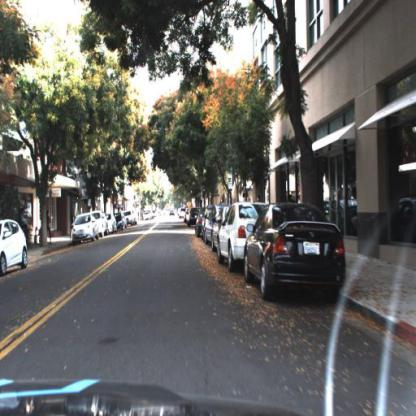car: (242, 200, 350, 306), (217, 200, 272, 273), (217, 198, 246, 276), (2, 220, 29, 278), (68, 208, 100, 247), (195, 206, 210, 241)
pedestrian: (45, 206, 56, 247)
